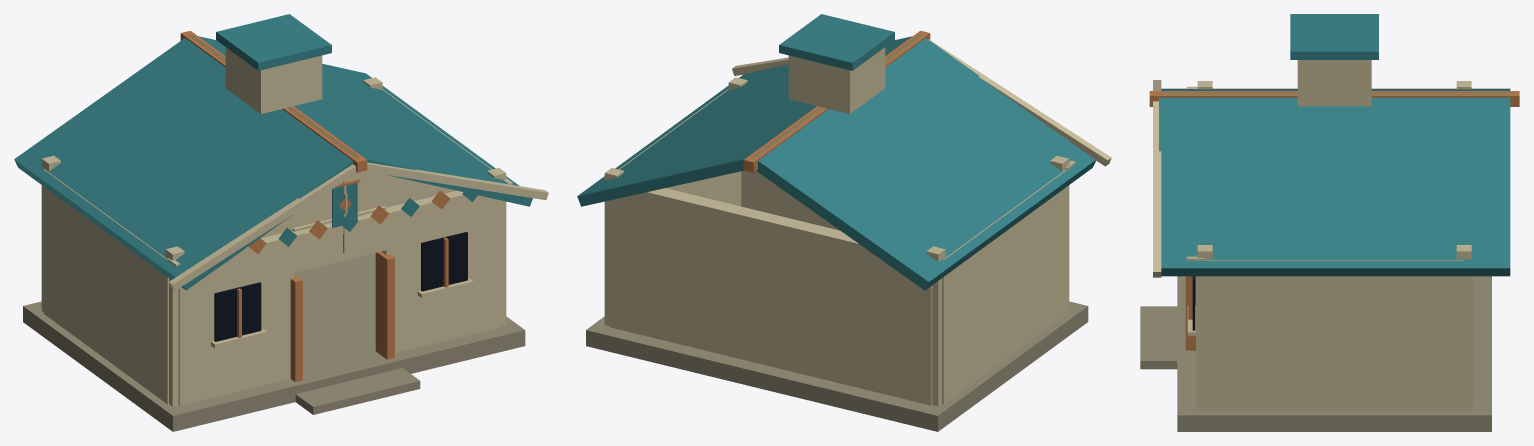
File: hall_crosshaven_lv1.glb
3 renders of one model, left to right at view 1: azimuth 30°, elevation 25°; view 2: azimuth 150°, elevation 25°; view 3: azimuth 270°, elevation 25°, orthographic. The views are drawn at different scales.
Parts seen in each view (by area): view 1: hall_crosshaven_lv1; view 2: hall_crosshaven_lv1; view 3: hall_crosshaven_lv1.
Part boxes in pixels (x1,y1,x2,y2): hall_crosshaven_lv1: (14, 14, 548, 431); hall_crosshaven_lv1: (577, 14, 1111, 431); hall_crosshaven_lv1: (1140, 14, 1519, 431).
Size of the model in its own units: 24.56 by 18.45 by 20.5.
